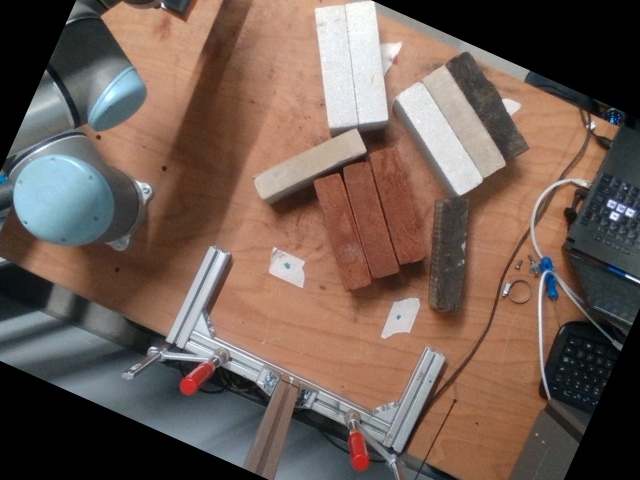brick-side: (398, 82, 482, 192), (423, 65, 506, 175), (448, 51, 528, 158), (254, 128, 365, 196), (343, 162, 399, 278), (314, 175, 371, 288), (371, 148, 420, 261), (346, 0, 386, 120), (317, 4, 355, 126), (435, 200, 469, 310)
